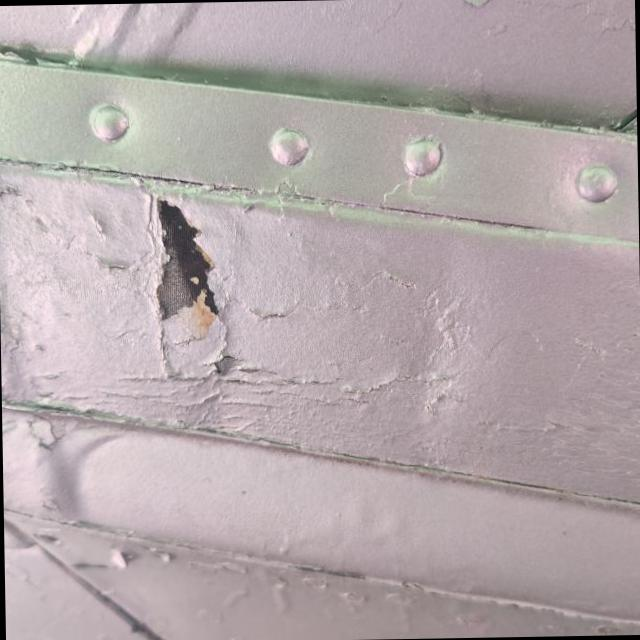Crack: (155, 200, 217, 319)
